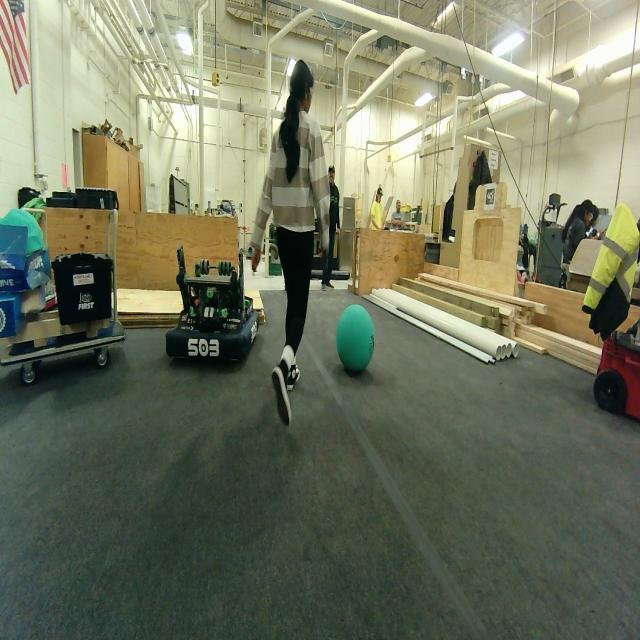algae: (335, 304, 375, 376)
